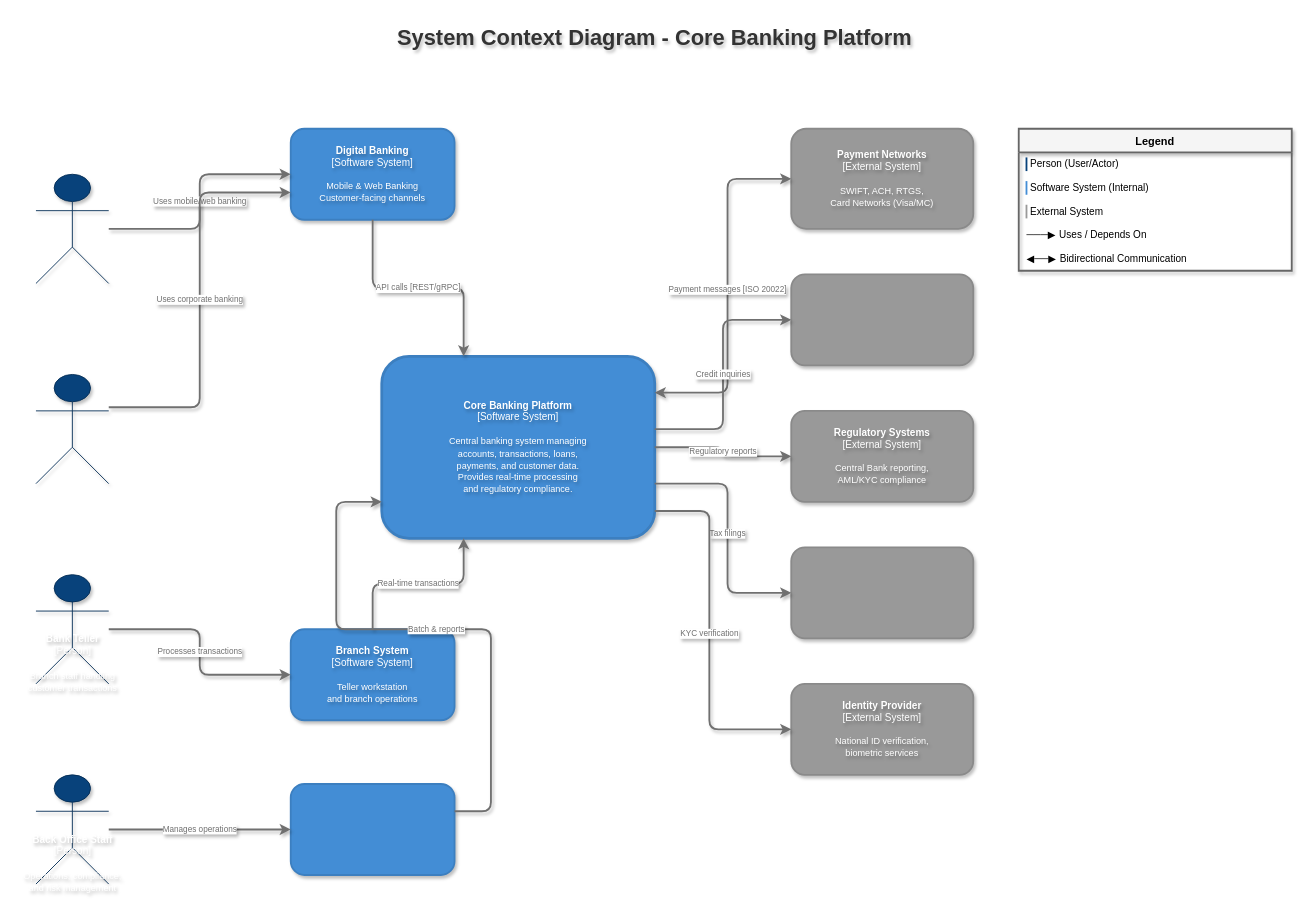
Image size: 1313x909. Some labels were removed from this diagram. The shapes that lost their labels are listed below. From the top down, each one's centre as x and y in pixels, then its label:
pixel 72 230: Retail Customer [Person] Individual banking customer using mobile/web banking
pixel 882 320: Credit Bureau [External System] Credit scoring and credit history checks
pixel 72 430: Corporate Customer [Person] Business banking customer with treasury operations
pixel 882 593: Tax Authority [External System] Tax reporting and withholding submissions
pixel 373 830: Back Office System [Software System] Operations, reporting, and administration
